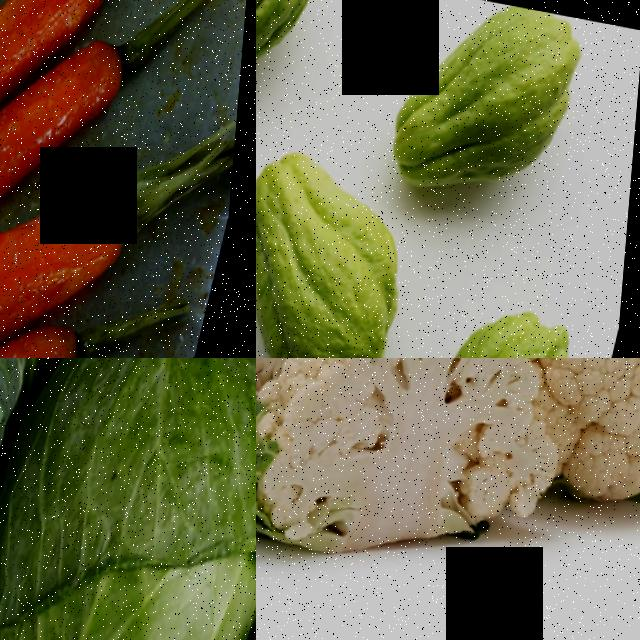cabbage: (0, 358, 256, 640)
carrot: (0, 190, 186, 349), (46, 0, 156, 225), (0, 0, 105, 85), (0, 314, 98, 358)
cauliflower: (256, 358, 481, 584), (457, 358, 640, 526)
chayote: (348, 0, 601, 206), (256, 138, 464, 358), (362, 283, 600, 358), (256, 0, 345, 163)
